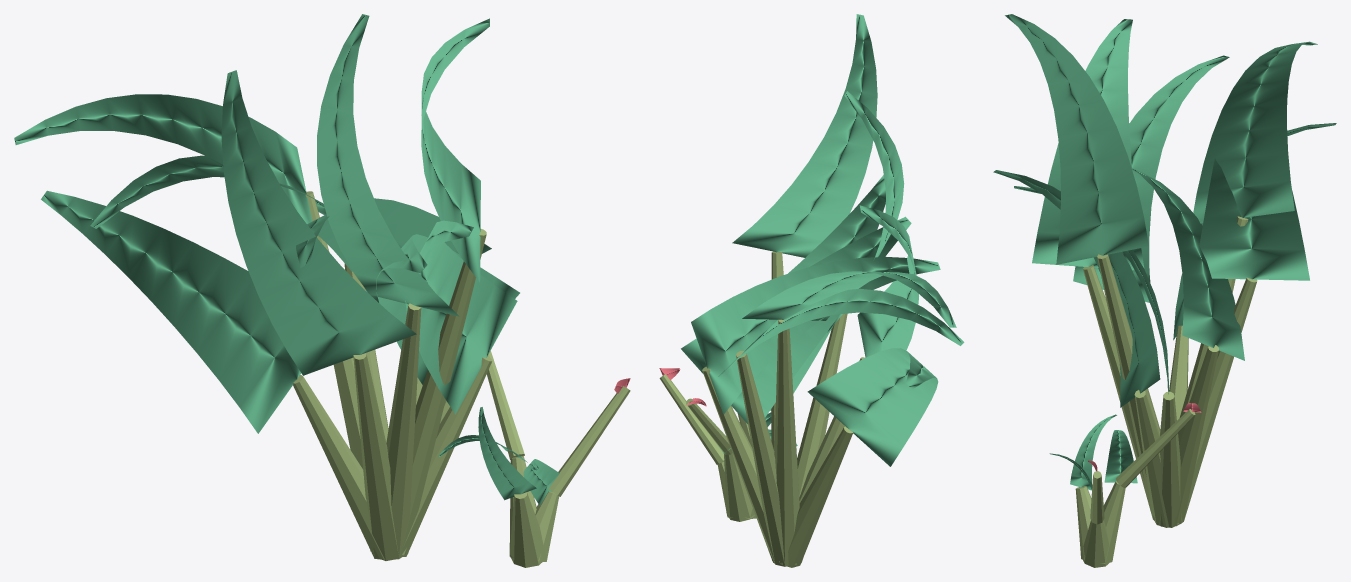
Rendered from wild_ginger_tropical_island_and_palm_trees_6826.glb.
3 renders of one model, left to right at view 1: azimuth 30°, elevation 25°; view 2: azimuth 150°, elevation 25°; view 3: azimuth 270°, elevation 25°, orthographic. The views are drawn at different scales.
Visible parts, largest first — view 1: wild-ginger; view 2: wild-ginger; view 3: wild-ginger.
Part boxes in pixels (x1=…): wild-ginger: x1=14, y1=14, x2=630, y2=567; wild-ginger: x1=659, y1=14, x2=964, y2=567; wild-ginger: x1=993, y1=14, x2=1336, y2=567.
Size of the model in its own units: 1.01 by 1.18 by 0.721.
